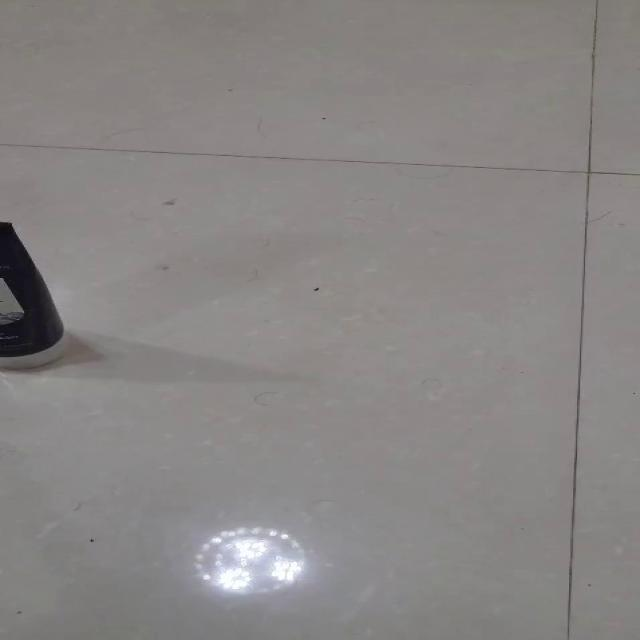plastic: (0, 221, 70, 369), (190, 525, 308, 595)
